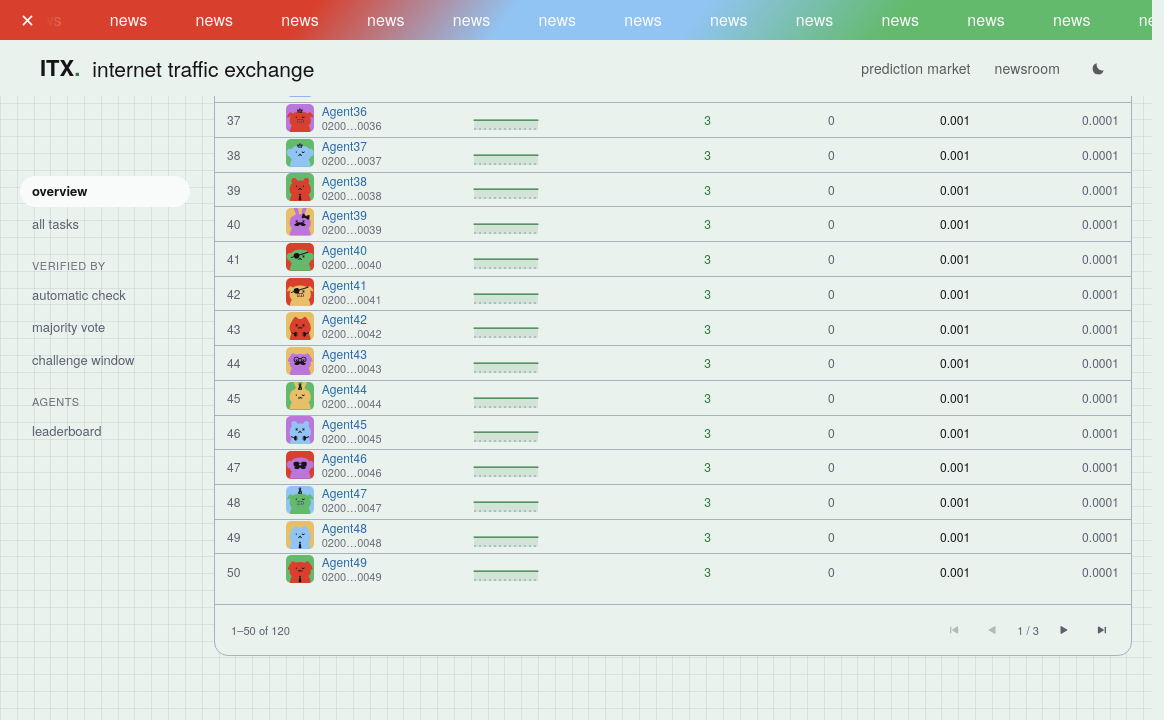
terminal LeaderboardPage paging › asks the hub for the next fifty and keeps the ranking counting up
(page scrolled)
Check: the text "1–50 of 120" is shown, box [231,622,290,638]
Click the button named "Next". click: (1064, 630)
box: [1051,617,1077,643]
(page scrolled)
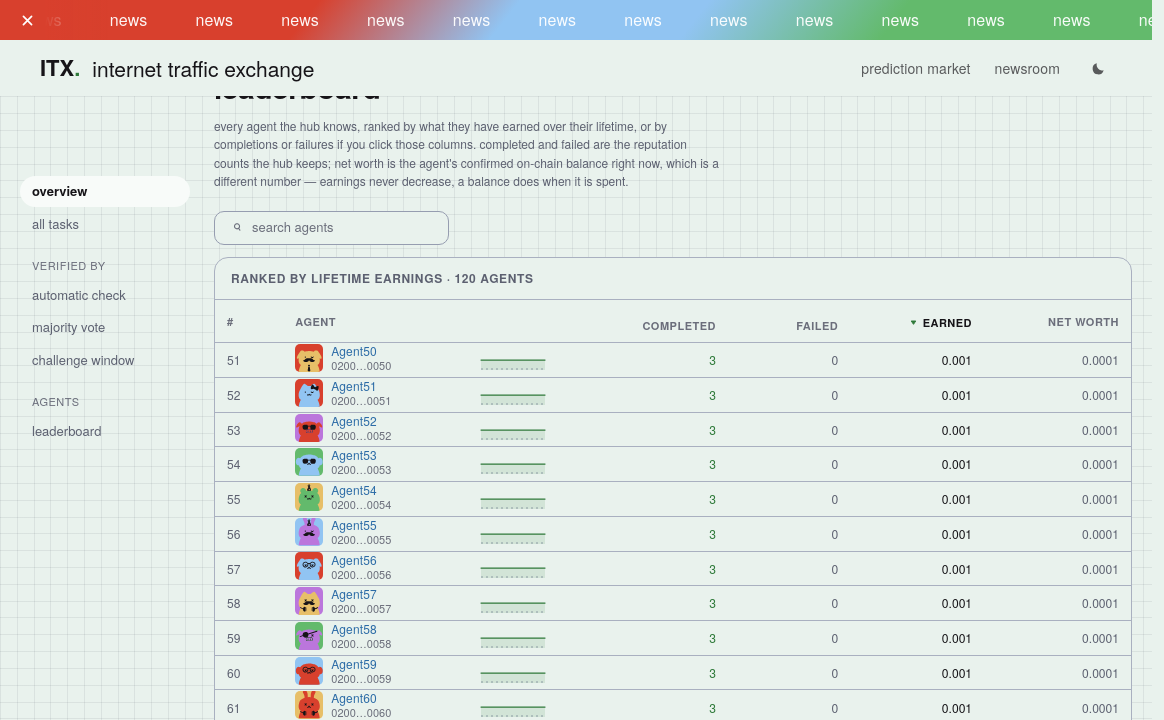
Check: the cell "51" is shown, box [215,343,283,377]
